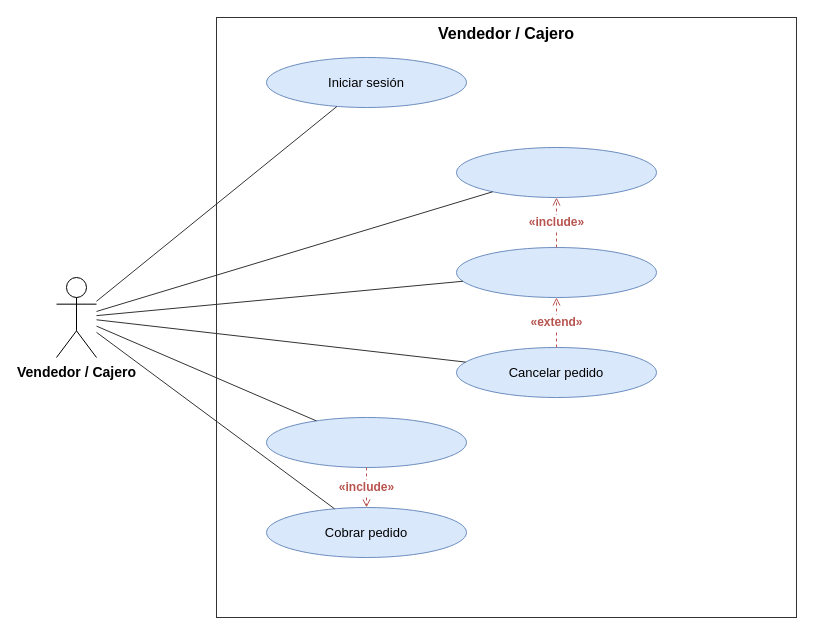
The diagram is 814 pixels wide and 635 high, and some of its shapes have lost their labels. The shapes that lost their labels are listed below. From the top down, each one's centre as x and y in pixels, then its label:
point (556, 172): Gestionar clientes
point (556, 272): Registrar pedido
point (366, 442): Cambiar estado
